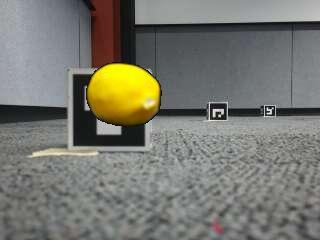lemon: (87, 64, 161, 126)
